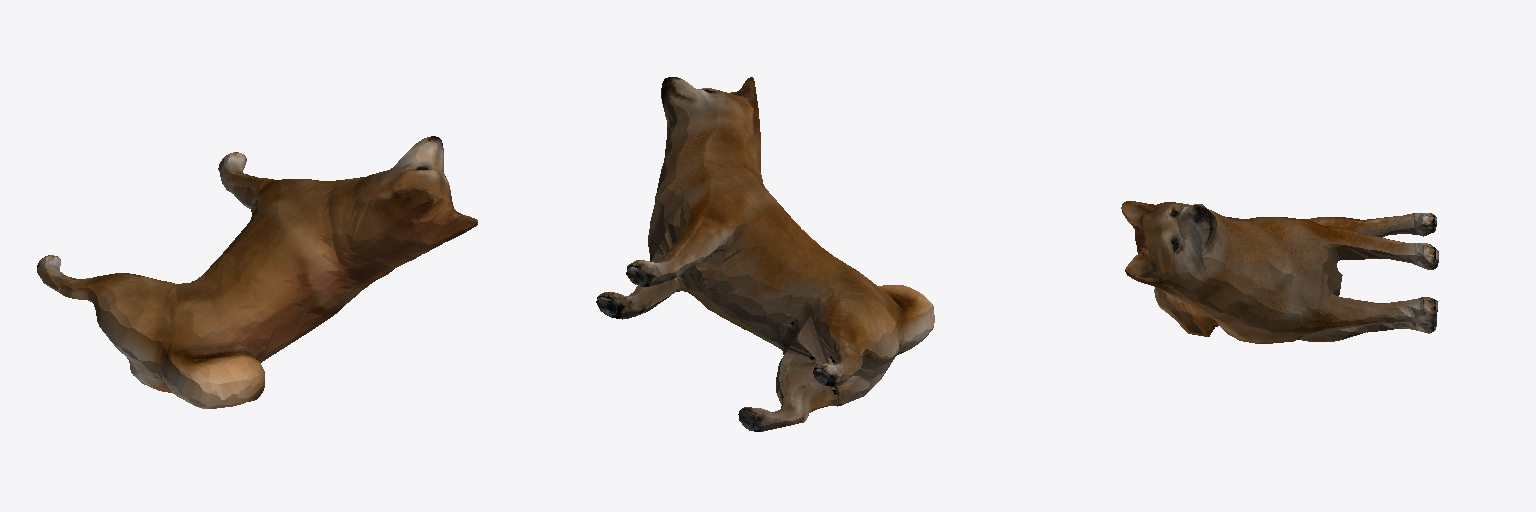
The picture shows the model from 3 angles: view 1: azimuth 30°, elevation 25°; view 2: azimuth 150°, elevation 25°; view 3: azimuth 270°, elevation 25°; orthographic projection.
Size of the model in its own units: 0.5481 by 0.4136 by 0.5133.
Materials: 1 (1 with a texture image).